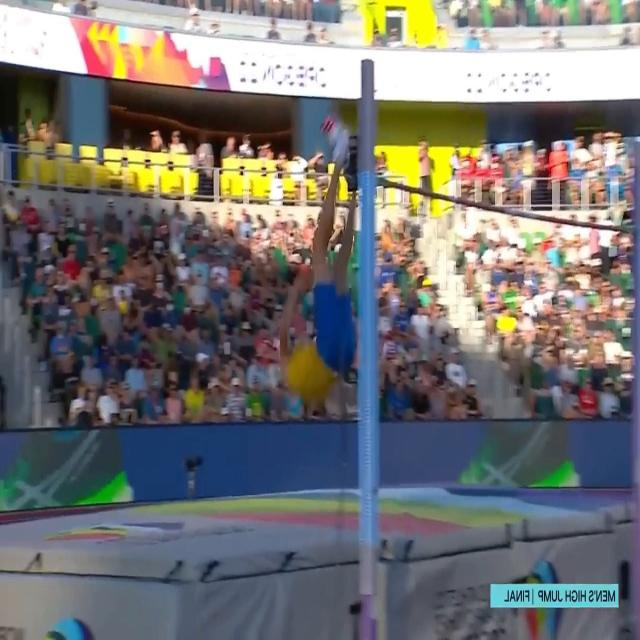land: (272, 114, 358, 410)
